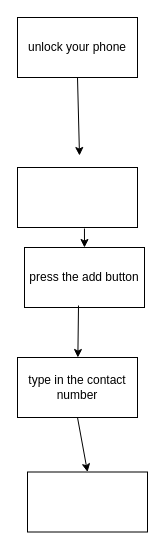
The diagram is 165 pixels wide and 550 high, and some of its shapes have lost their labels. Each missing label, with the centre of its shape:
"open the contacts app" belongs at [77,197].
"press save" belongs at [87,501].
